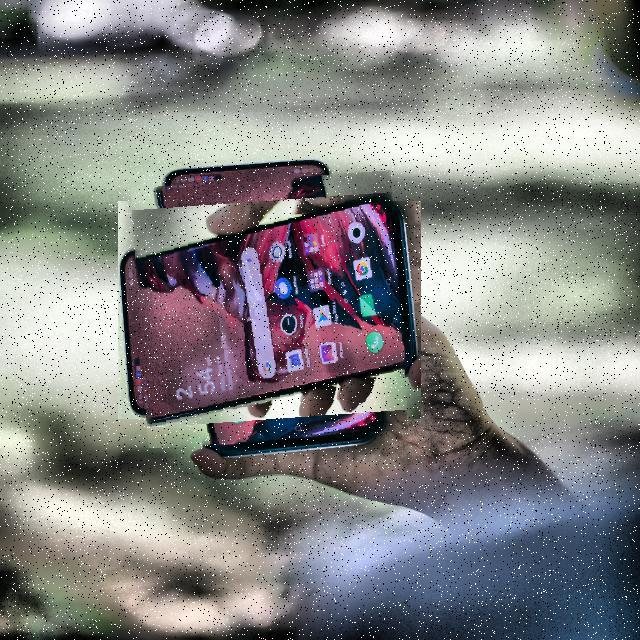Phone: (134, 174, 404, 444)
